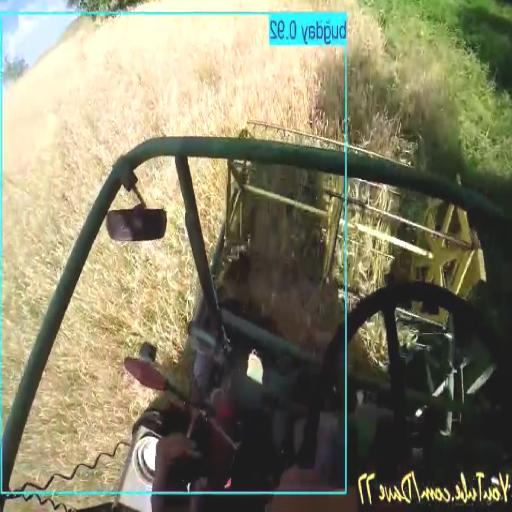bugday: (2, 16, 344, 413), (12, 159, 196, 484), (337, 0, 512, 210)
